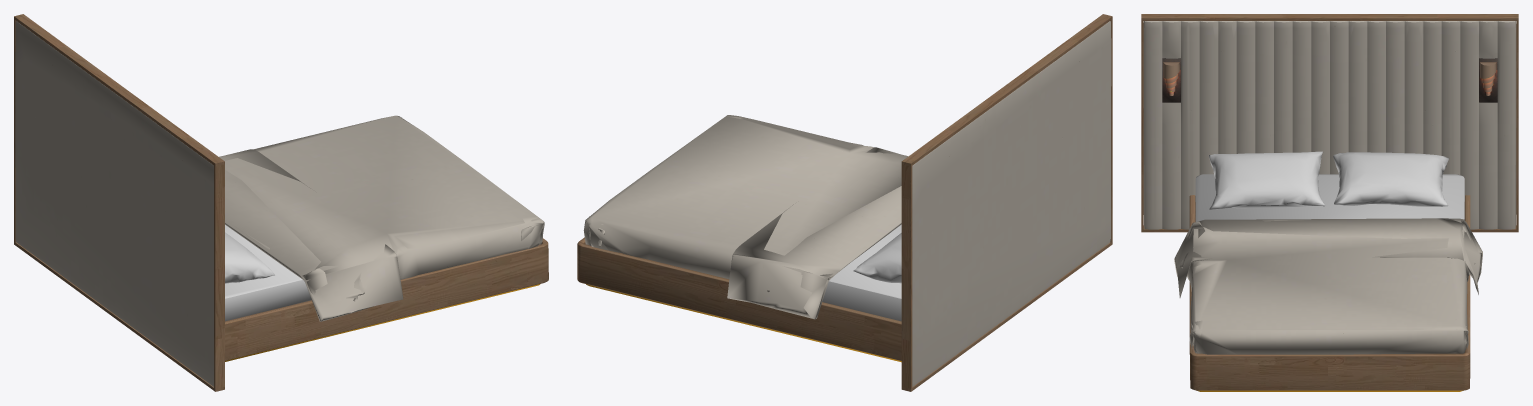
File: bed_hotel.glb
The picture shows the model from 3 angles, left to right: view 1: azimuth 30°, elevation 25°; view 2: azimuth 150°, elevation 25°; view 3: azimuth 270°, elevation 25°; orthographic projection. The views are drawn at different scales.
Parts seen in each view (by area): view 1: Object_6, Object_2, Object_8, Object_5; view 2: Object_6, Object_2, Object_8, Object_5; view 3: Object_6, Object_8, Object_2, Object_3, Object_4, Object_5.
Part boxes in pixels (left/top/right/bottom): Object_6: left=15, top=21, right=544, bottom=386; Object_2: left=14, top=14, right=548, bottom=391; Object_8: left=225, top=225, right=311, bottom=321; Object_5: left=225, top=284, right=540, bottom=361; Object_6: left=583, top=21, right=1111, bottom=386; Object_2: left=577, top=14, right=1112, bottom=391; Object_8: left=822, top=224, right=901, bottom=321; Object_5: left=586, top=284, right=901, bottom=362; Object_6: left=1143, top=21, right=1516, bottom=354; Object_8: left=1195, top=151, right=1464, bottom=221; Object_2: left=1141, top=14, right=1518, bottom=390; Object_3: left=1162, top=58, right=1497, bottom=102; Object_4: left=1163, top=62, right=1496, bottom=95; Object_5: left=1197, top=390, right=1463, bottom=391.
Size of the model in its own units: 2.4 by 1.45 by 2.31.
Materials: 6 (4 with a texture image).
